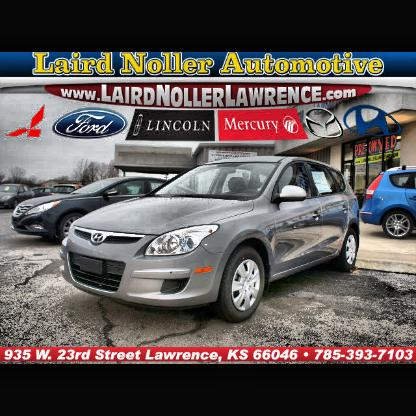Hyundai Elantra Touring Hatchback 2012: (63, 157, 363, 325)
